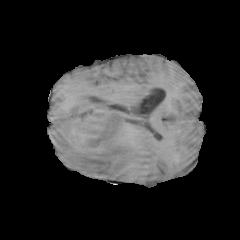glioma: (52, 96, 151, 173)
